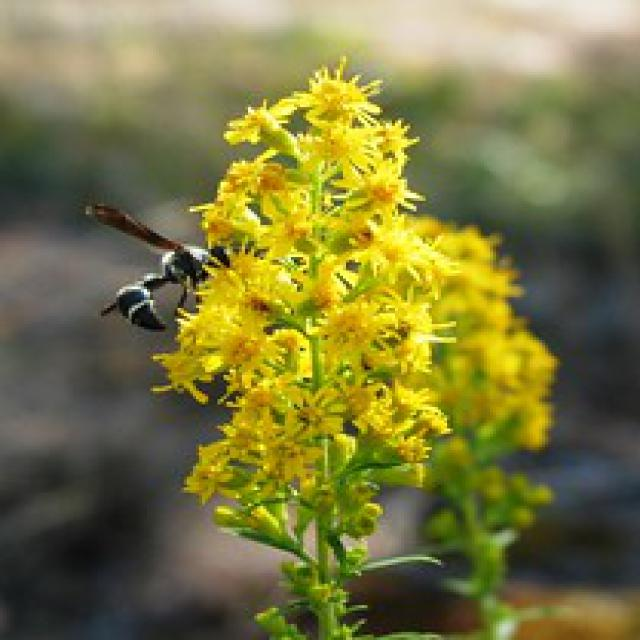Guepe: (80, 202, 232, 332)
